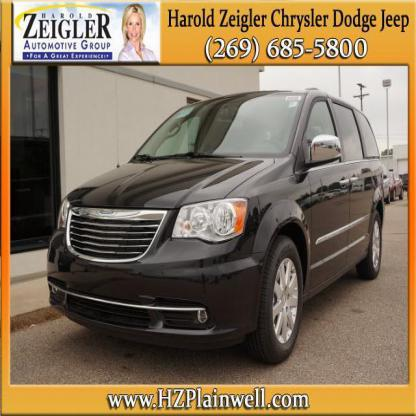Vehicle: (41, 91, 388, 364)
